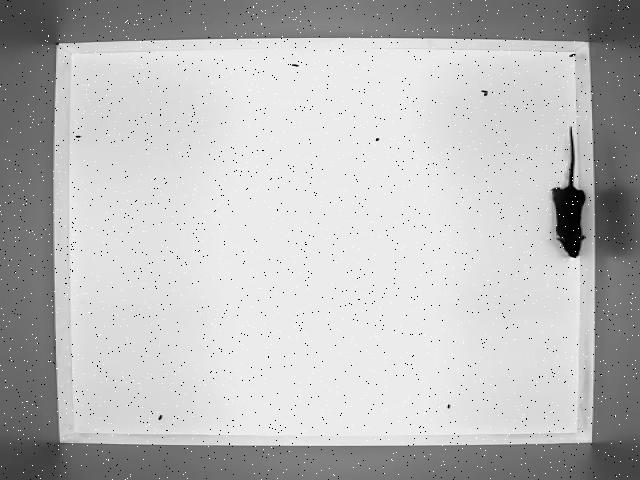Tikus: (551, 125, 589, 262)
